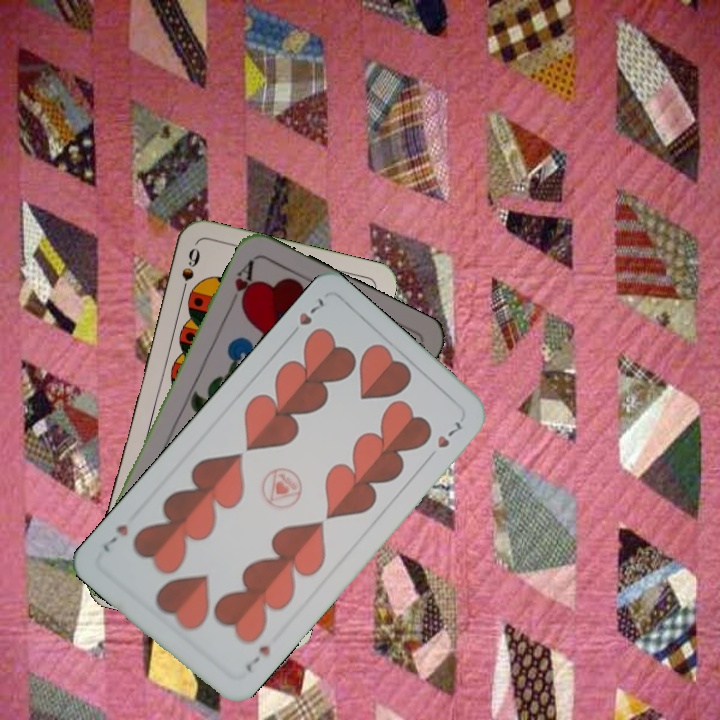H7: (295, 293, 327, 329), (241, 641, 273, 675)
HA: (225, 255, 257, 310)
S9: (177, 244, 203, 301)
